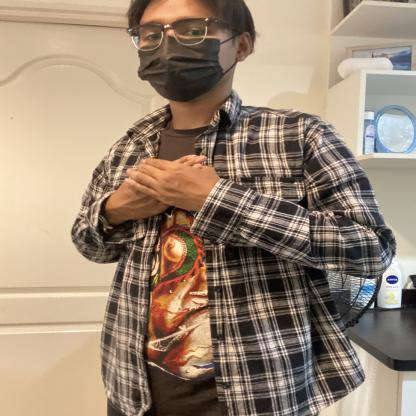Sick: (53, 122, 272, 254)
